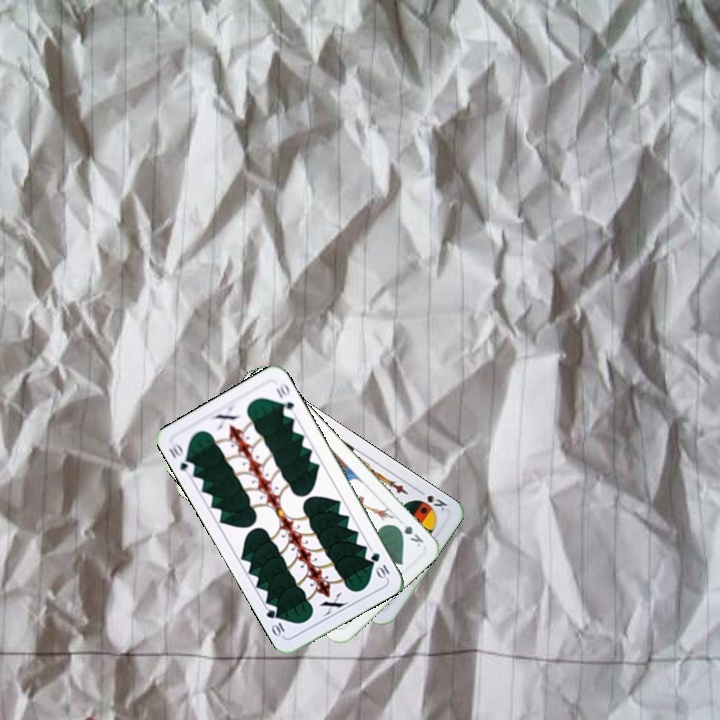G10: (164, 439, 198, 478), (367, 548, 392, 581)
GK: (391, 515, 426, 549)
SK: (413, 485, 450, 515)
